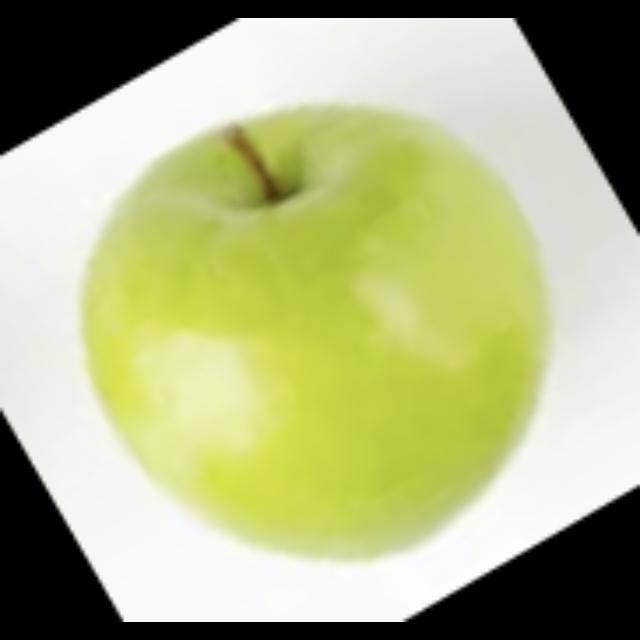Apel Segar: (77, 99, 556, 567)
